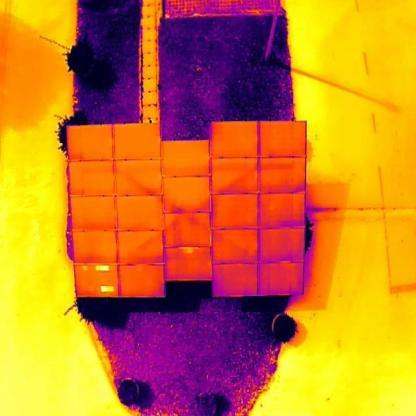anomaly: (179, 246, 199, 255), (99, 284, 116, 294), (94, 263, 111, 273), (81, 263, 89, 272)
